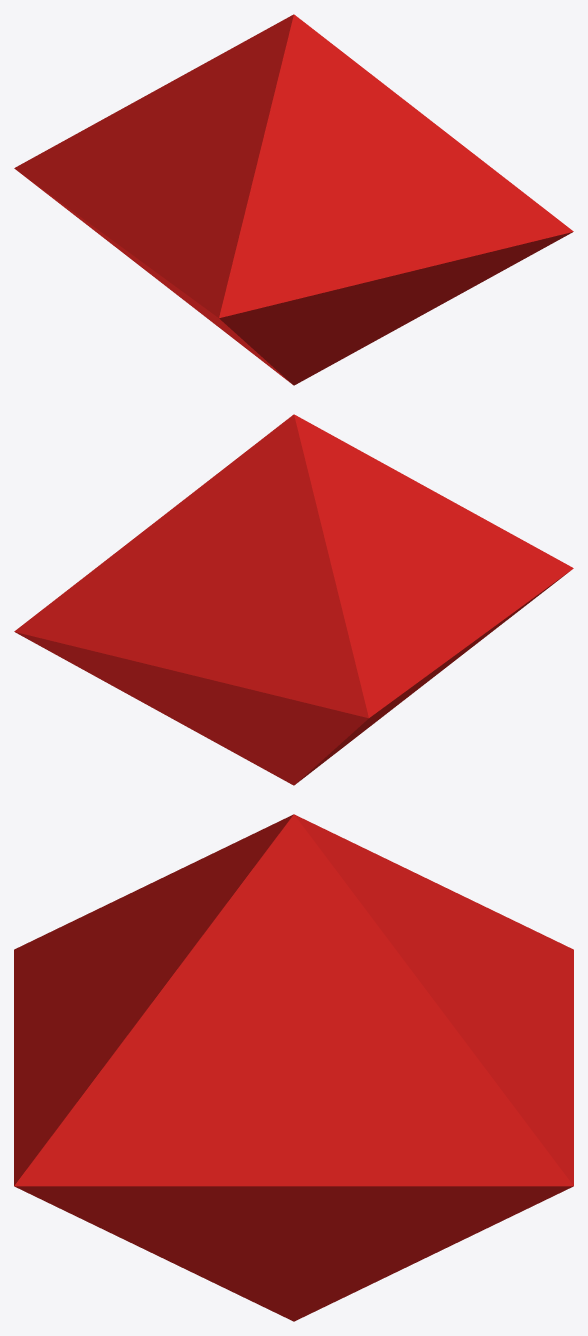
The model's file is Gem.fbx.
3 renders of one model, top to bottom at view 1: azimuth 30°, elevation 25°; view 2: azimuth 150°, elevation 25°; view 3: azimuth 270°, elevation 25°, orthographic. The views are drawn at different scales.
Visible parts, largest first — view 1: Gem; view 2: Gem; view 3: Gem.
Boxes of the visible parts, bbox=[...] form: Gem: bbox=[14, 14, 573, 385]; Gem: bbox=[14, 414, 573, 785]; Gem: bbox=[14, 814, 573, 1321].
Bounding box in the file's own units: 444 × 444 × 444.
